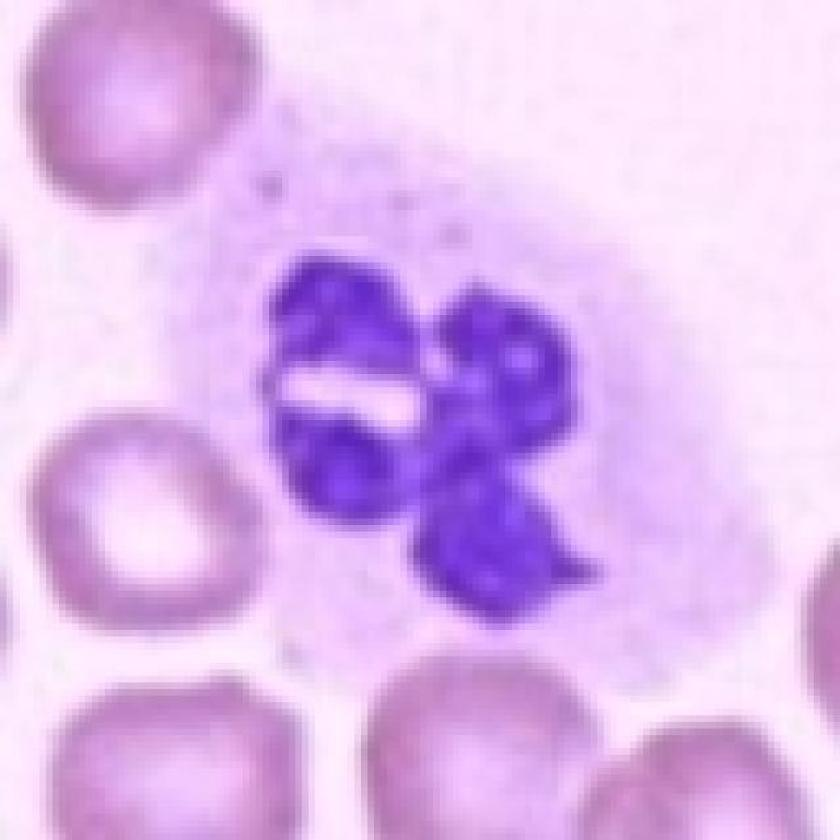neutrophil: (126, 156, 812, 703)
